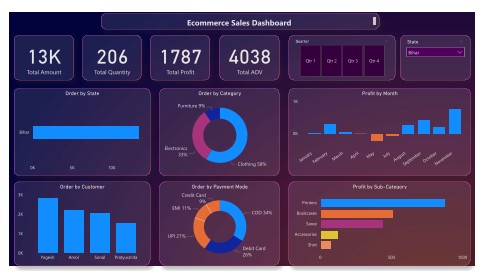

What the dashboard file says about the page in this screenshot:
{"tool":"powerbi","page":{"name":"Page 1","canvas":[1280,720],"ordinal":0},"visuals":[{"type":"textbox","box":[253,12,764,45],"z":0},{"type":"columnChart","title":"Profit by Month","fields":{"Y":["Sum(Details.Profit)"],"Category":["Orders.Order Date.Variation.Date Hierarchy.Month"]},"box":[768,218,498,240],"z":1000},{"type":"barChart","title":"Profit by Sub-Category","fields":{"Category":["Details.Sub-Category"],"Y":["Sum(Details.Profit)"]},"box":[768,474,498,230],"z":2000},{"type":"donutChart","title":"Order by Category","fields":{"Category":["Details.Category"],"Y":["Sum(Details.Quantity)"]},"box":[414,218,328,240],"z":3000},{"type":"donutChart","title":"Order by Payment Mode","fields":{"Category":["Details.PaymentMode","Details.Category"],"Y":["Sum(Details.Quantity)"]},"box":[414,474,328,230],"z":4000},{"type":"card","fields":{"Values":["Sum(Details.Amount)"]},"box":[14,72,164,124],"z":5000},{"type":"card","fields":{"Values":["Sum(Details.Quantity)"]},"box":[202,72,162,124],"z":6000},{"type":"card","fields":{"Values":["Sum(Details.Profit)"]},"box":[388,72,164,124],"z":7000},{"type":"card","fields":{"Values":["Sum(Details.AOV)"]},"box":[578,72,164,124],"z":8000},{"type":"barChart","title":"Order by State","fields":{"Category":["Orders.State"],"Y":["Sum(Details.Amount)"]},"box":[14,218,374,240],"z":9000},{"type":"columnChart","title":"Order by Customer","fields":{"Category":["Orders.CustomerName"],"Y":["Sum(Details.Amount)"]},"box":[14,474,374,230],"z":10000},{"type":"slicer","fields":{"Values":["Orders.Order Date.Variation.Date Hierarchy.Quarter"]},"box":[768,72,292,124],"z":11000},{"type":"slicer","fields":{"Values":["Orders.State"]},"box":[1074,72,192,124],"z":12000}]}

Visuals, with their boxes in screenshot pixels (x1, y1, x2, y2), scaled from the page's 1280x720 canvas onto the 484x280 screenshot:
textbox: rect(96, 5, 385, 22)
"Profit by Month" columnChart: rect(290, 85, 479, 178)
"Profit by Sub-Category" barChart: rect(290, 184, 479, 274)
"Order by Category" donutChart: rect(157, 85, 281, 178)
"Order by Payment Mode" donutChart: rect(157, 184, 281, 274)
card - Sum(Details.Amount): rect(5, 28, 67, 76)
card - Sum(Details.Quantity): rect(76, 28, 138, 76)
card - Sum(Details.Profit): rect(147, 28, 209, 76)
card - Sum(Details.AOV): rect(219, 28, 281, 76)
"Order by State" barChart: rect(5, 85, 147, 178)
"Order by Customer" columnChart: rect(5, 184, 147, 274)
slicer - Orders.Order Date.Variation.Date Hierarchy.Quarter: rect(290, 28, 401, 76)
slicer - Orders.State: rect(406, 28, 479, 76)
